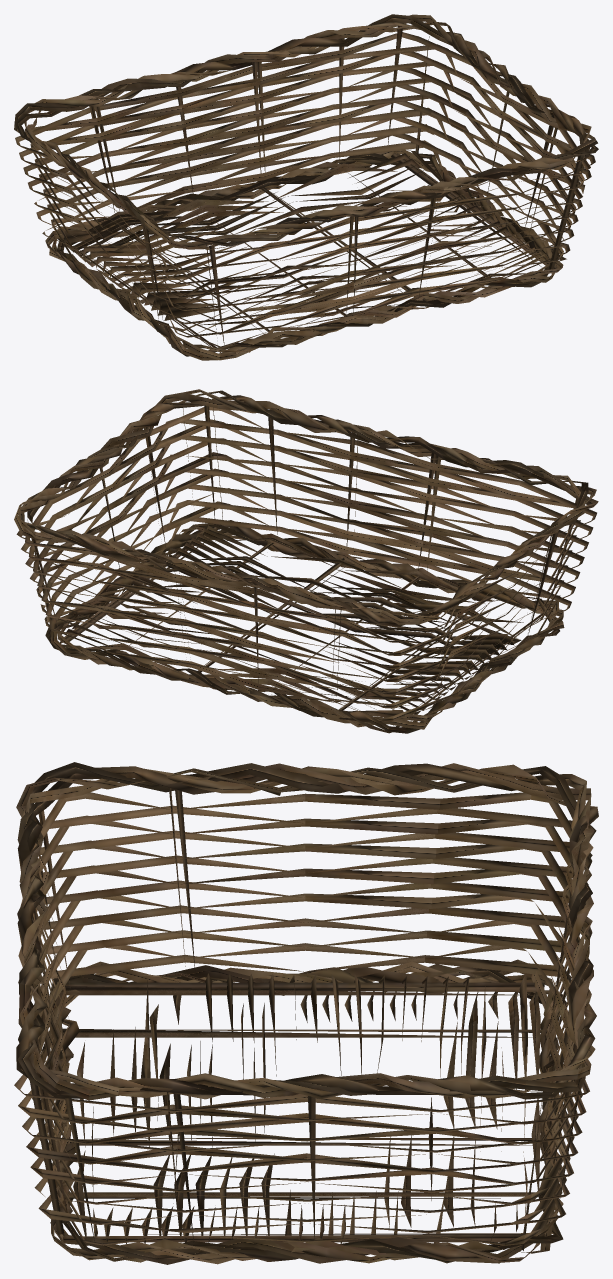
Rendered from wicker_basket_01.glb.
The picture shows the model from 3 angles, top to bottom: view 1: azimuth 30°, elevation 25°; view 2: azimuth 150°, elevation 25°; view 3: azimuth 270°, elevation 25°; orthographic projection. The views are drawn at different scales.
Visible parts, largest first — view 1: wicker_basket_01; view 2: wicker_basket_01; view 3: wicker_basket_01.
Part boxes in pixels (<box>): wicker_basket_01: <box>14,14,598,360</box>; wicker_basket_01: <box>14,389,598,733</box>; wicker_basket_01: <box>14,762,598,1264</box>.
Size of the model in its own units: 0.383 by 0.1174 by 0.2939.
Materials: 1 (1 with a texture image).
